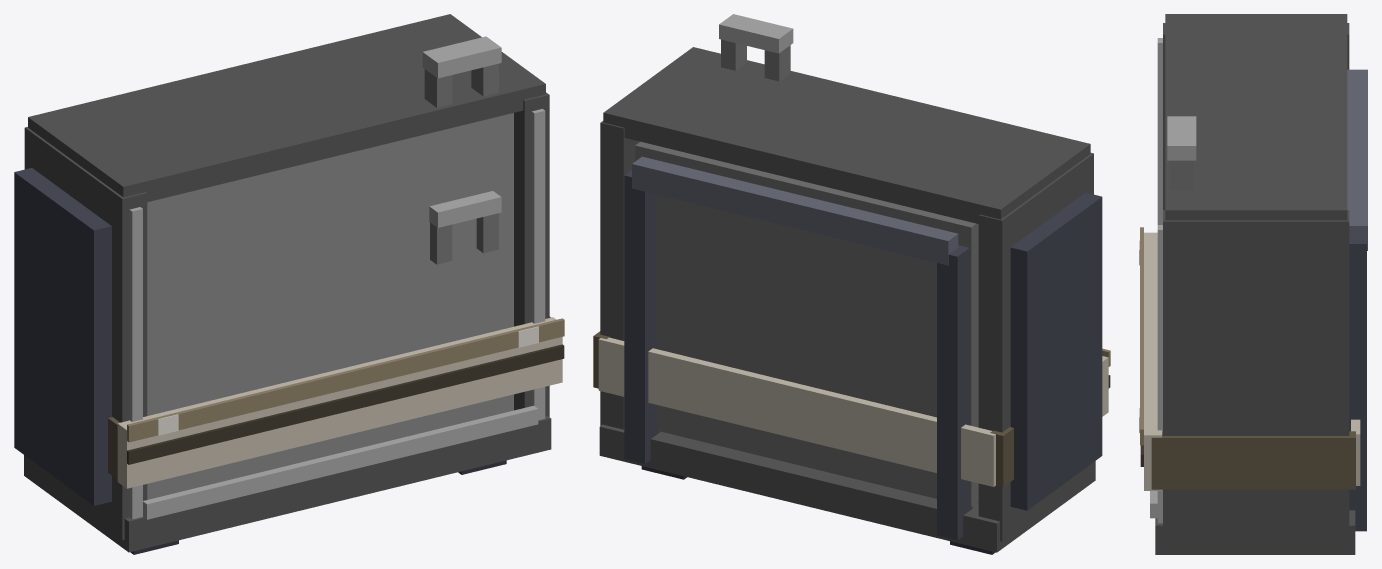
Rendered from CMU3DRMCRollerBedHospitalSheet2Folded.glb.
The picture shows the model from 3 angles, left to right: view 1: azimuth 30°, elevation 25°; view 2: azimuth 150°, elevation 25°; view 3: azimuth 270°, elevation 25°; orthographic projection. The views are drawn at different scales.
Visible parts, largest first — view 1: nested gray cushion, upper frame rail, left nested bracket, folded side tube (×2), beige retaining strap, lower frame rail, front lower edge highlight, strap upper fold, front tube highlight (×2), strap dark crease, nested handle bridge (×2), nested handle upright (×4); view 2: folded cushion rear, upper frame rail, left nested bracket, rear strap, folded side tube (×2), rear nested upright (×2), lower frame rail, rear folded cross rail, nested handle bridge, nested handle upright (×2), strap wrap around edge; view 3: folded side tube (×2), upper frame rail, strap wrap around edge, rear nested upright, rear folded cross rail, beige retaining strap, front tube highlight (×2), lower frame rail, nested handle bridge, strap upper fold, nested handle upright, rear strap.
Part boxes in pixels (left/top/right/bottom): nested gray cushion: left=147, top=113, right=513, bottom=499; upper frame rail: left=28, top=14, right=545, bottom=201; left nested bracket: left=14, top=168, right=111, bottom=505; folded side tube (×2): left=24, top=92, right=549, bottom=540; beige retaining strap: left=117, top=317, right=562, bottom=488; lower frame rail: left=24, top=415, right=551, bottom=552; front lower edge highlight: left=143, top=405, right=538, bottom=519; strap upper fold: left=127, top=318, right=564, bottom=442; front tube highlight (×2): left=129, top=109, right=545, bottom=519; strap dark crease: left=127, top=344, right=564, bottom=464; nested handle bridge (×2): left=422, top=36, right=501, bottom=227; nested handle upright (×4): left=424, top=63, right=498, bottom=264; folded cushion rear: left=635, top=141, right=978, bottom=507; upper frame rail: left=603, top=47, right=1090, bottom=223; left nested bracket: left=1010, top=192, right=1102, bottom=510; rear strap: left=598, top=337, right=995, bottom=486; folded side tube (×2): left=600, top=121, right=1093, bottom=541; rear nested upright (×2): left=624, top=170, right=972, bottom=540; lower frame rail: left=599, top=424, right=1095, bottom=552; rear folded cross rail: left=632, top=156, right=958, bottom=265; nested handle bridge: left=719, top=14, right=793, bottom=53; nested handle upright (×2): left=721, top=39, right=790, bottom=81; strap wrap around edge: left=990, top=426, right=1013, bottom=486; folded side tube (×2): left=1163, top=23, right=1349, bottom=546; upper frame rail: left=1165, top=14, right=1347, bottom=220; strap wrap around edge: left=1151, top=431, right=1355, bottom=489; rear nested upright: left=1349, top=240, right=1366, bottom=531; rear folded cross rail: left=1347, top=69, right=1367, bottom=250; beige retaining strap: left=1144, top=232, right=1161, bottom=490; front tube highlight (×2): left=1157, top=38, right=1162, bottom=523; lower frame rail: left=1155, top=510, right=1355, bottom=554; nested handle bridge: left=1167, top=116, right=1196, bottom=160; strap upper fold: left=1140, top=227, right=1143, bottom=445; nested handle upright: left=1170, top=160, right=1193, bottom=189; rear strap: left=1351, top=419, right=1360, bottom=485.
Bounding box in the file's own units: 0.579 × 0.52 × 0.268.
